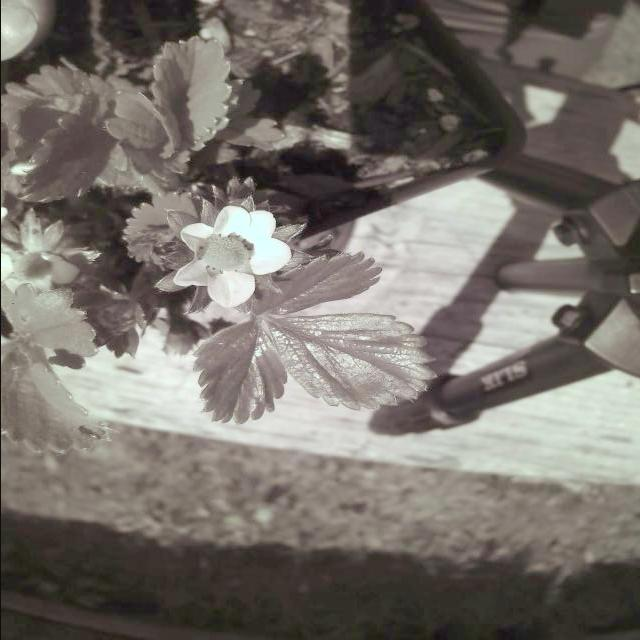flower: (168, 202, 292, 314)
